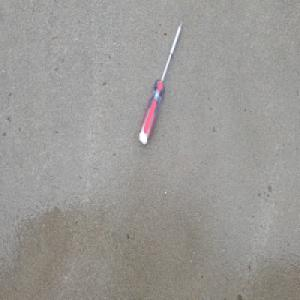Screwdriver: (137, 19, 184, 148)
